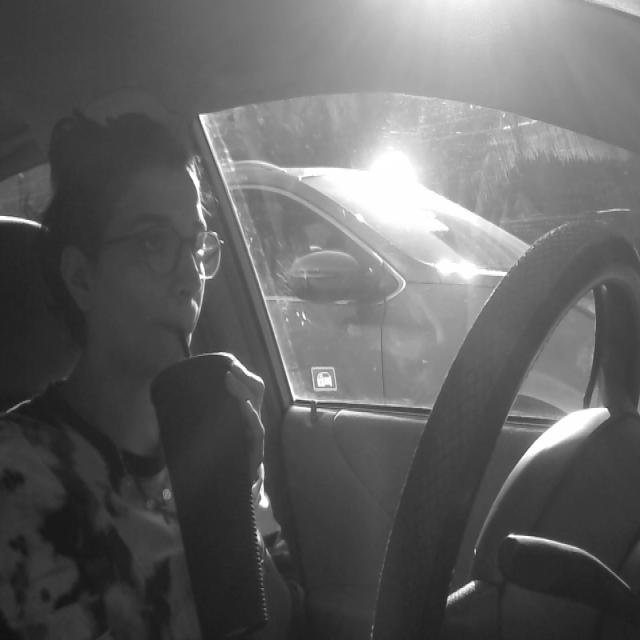drinking: (141, 337, 271, 640)
